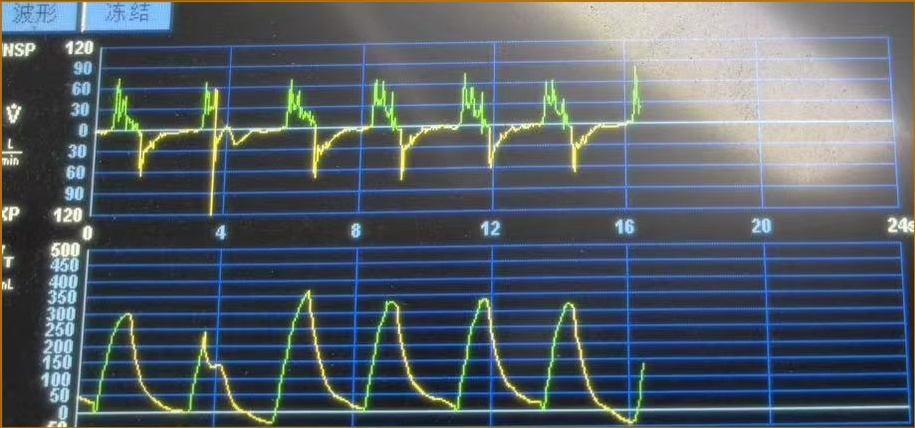Accumulation Flow: (100, 60, 659, 215)
Volume: (85, 262, 678, 427)
